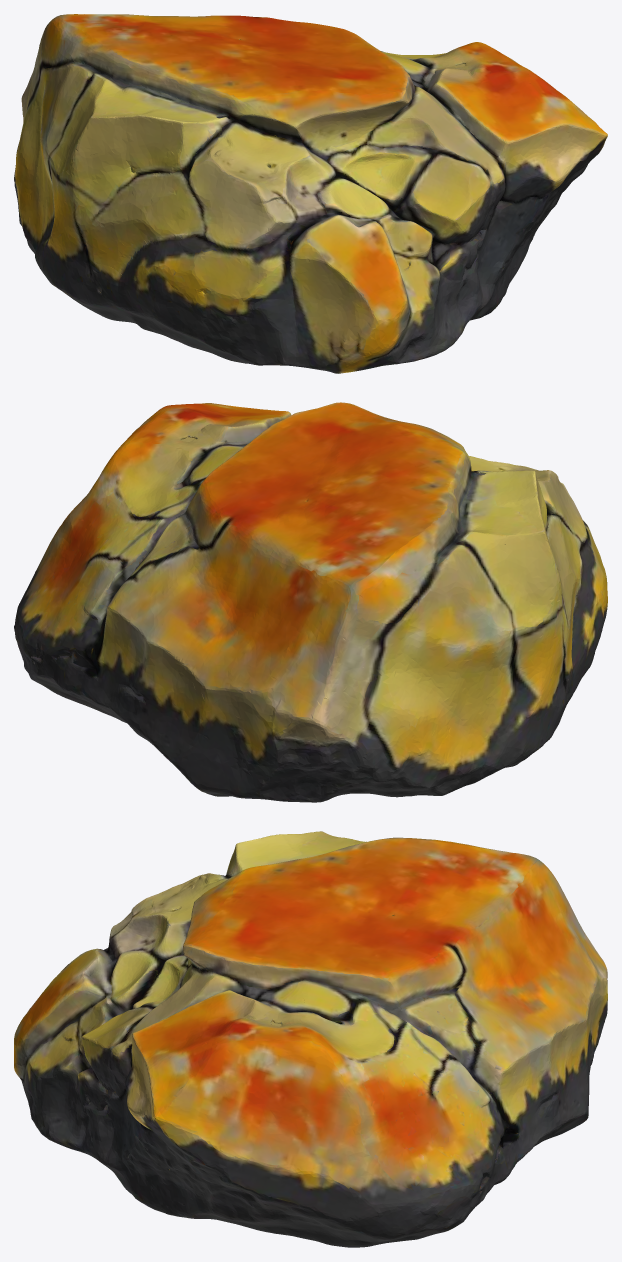
The model's file is volcanic_sulfur_crust_01.glb.
3 views of the same model, one above another, from view 1: azimuth 30°, elevation 25°; view 2: azimuth 150°, elevation 25°; view 3: azimuth 270°, elevation 25° (orthographic). The views are drawn at different scales.
Parts seen in each view (by area): view 1: geometry_0; view 2: geometry_0; view 3: geometry_0.
Boxes of the visible parts, left/top/right/bottom form: geometry_0: left=14, top=14, right=607, bottom=373; geometry_0: left=14, top=402, right=607, bottom=802; geometry_0: left=14, top=831, right=607, bottom=1247.
Size of the model in its own units: 0.9376 by 0.4483 by 1.
1 material, 1 textured.
